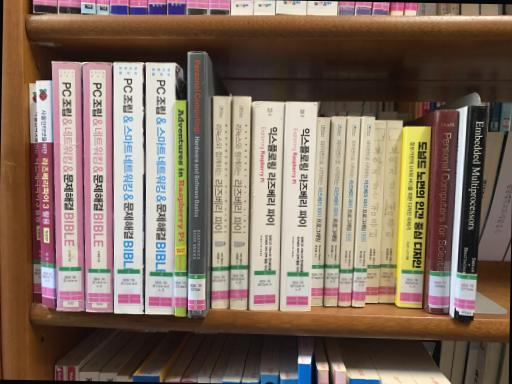book-spine: (52, 62, 85, 312), (280, 102, 317, 310), (114, 62, 144, 314), (454, 105, 489, 321), (146, 63, 175, 315), (84, 62, 113, 313), (250, 101, 284, 311), (428, 111, 460, 315), (399, 126, 432, 308), (188, 52, 207, 318), (229, 97, 251, 310), (353, 116, 376, 307), (36, 81, 55, 309), (211, 96, 231, 308), (379, 120, 402, 303), (339, 116, 361, 306), (325, 117, 347, 306), (365, 120, 386, 303), (311, 117, 331, 307), (29, 83, 42, 302), (175, 100, 187, 316)
